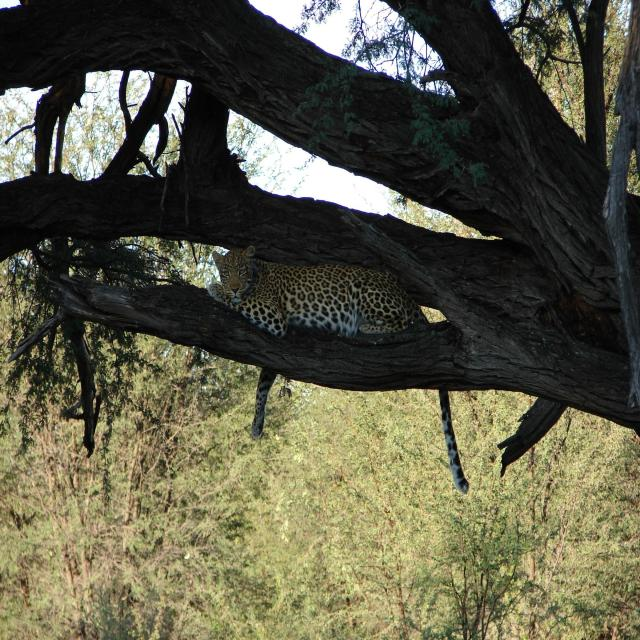Leopard: (209, 238, 468, 499)
